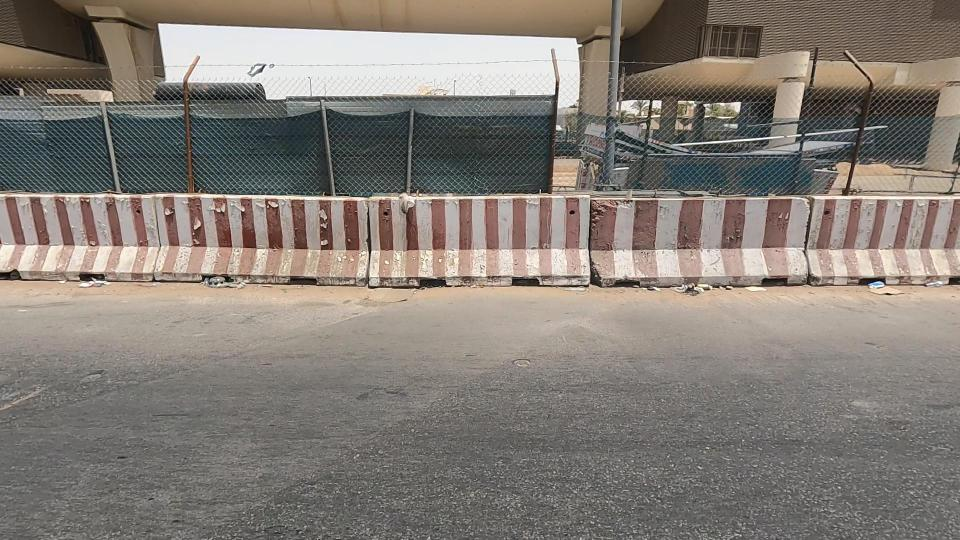CONSTRUCTION_ROAD: (216, 125, 750, 340), (0, 118, 438, 341), (541, 127, 960, 332)
